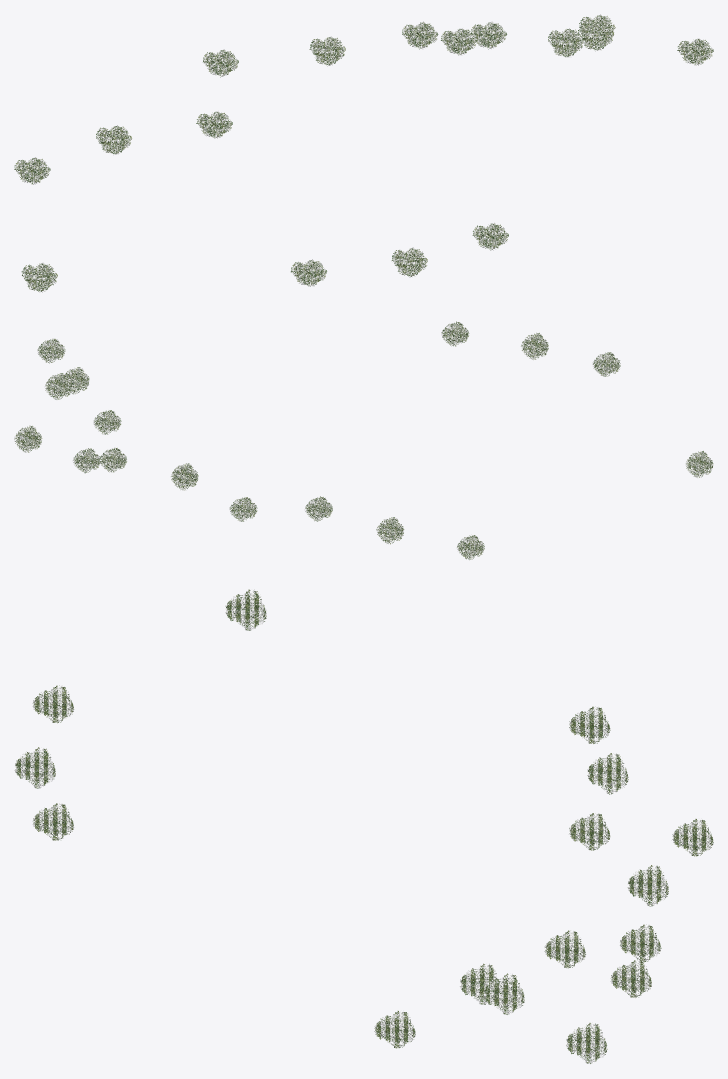
File: context-plants.glb
3 views of the same model, one above another, from view 1: azimuth 30°, elevation 25°; view 2: azimuth 150°, elevation 25°; view 3: azimuth 270°, elevation 25° (orthographic). The views are drawn at different scales.
Parts seen in each view (by area): view 1: context-plants-other-0; view 2: context-plants-other-0; view 3: context-plants-other-0.
Boxes of the visible parts, x1,y1,x2,y2 form: context-plants-other-0: (14, 14, 713, 292); context-plants-other-0: (14, 321, 713, 560); context-plants-other-0: (14, 589, 713, 1063).
Bounding box in the file's own units: 116 × 10.53 × 77.24.
Materials: 1 (1 with a texture image).
